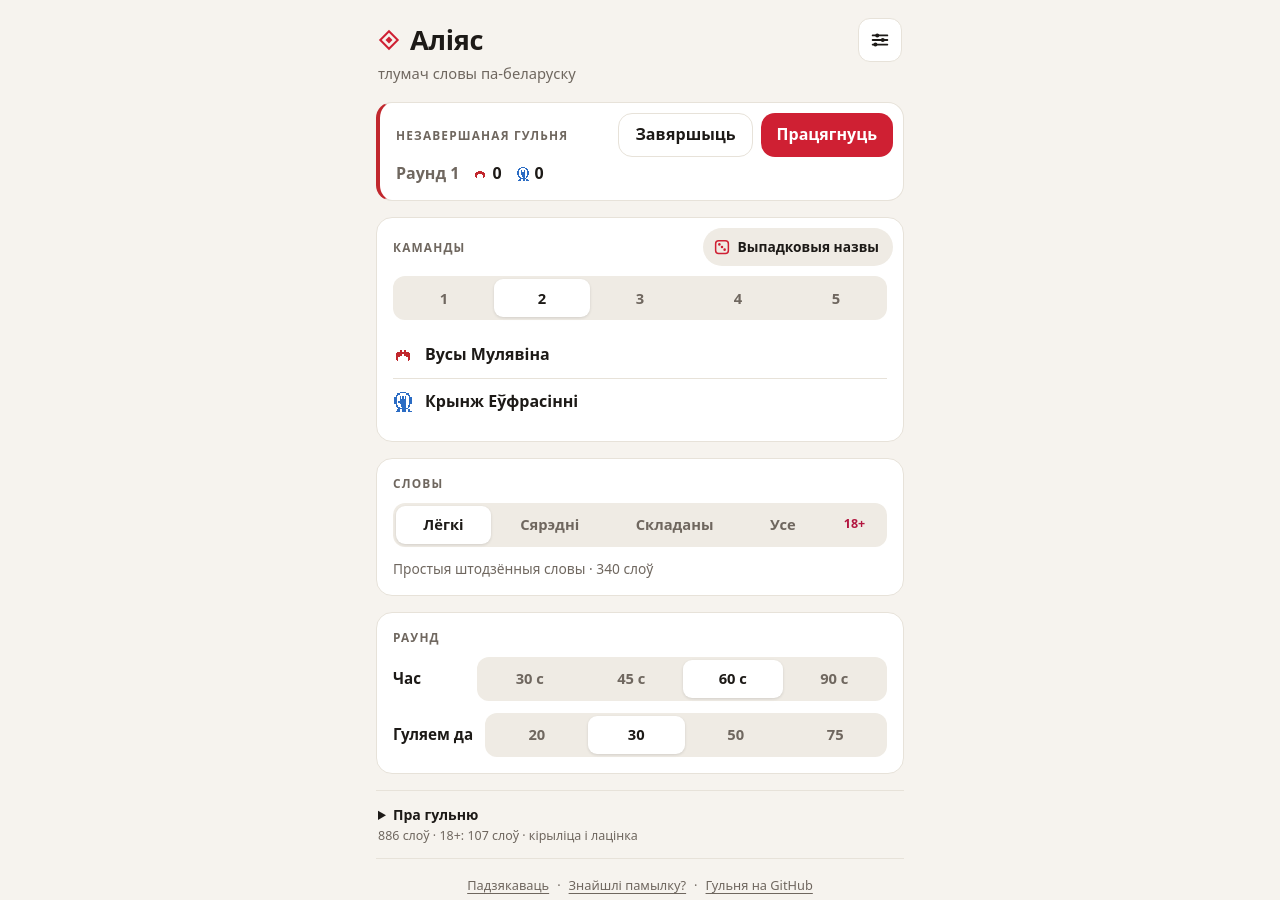
Test: SetupScreen › працяг гульні без гуку не чапае аўдыя, а новую гульню можна не пацвярджаць
Click the button "Працягнуць" at (827,135), box x1=761 y1=113 x2=893 y2=157
(page scrolled)
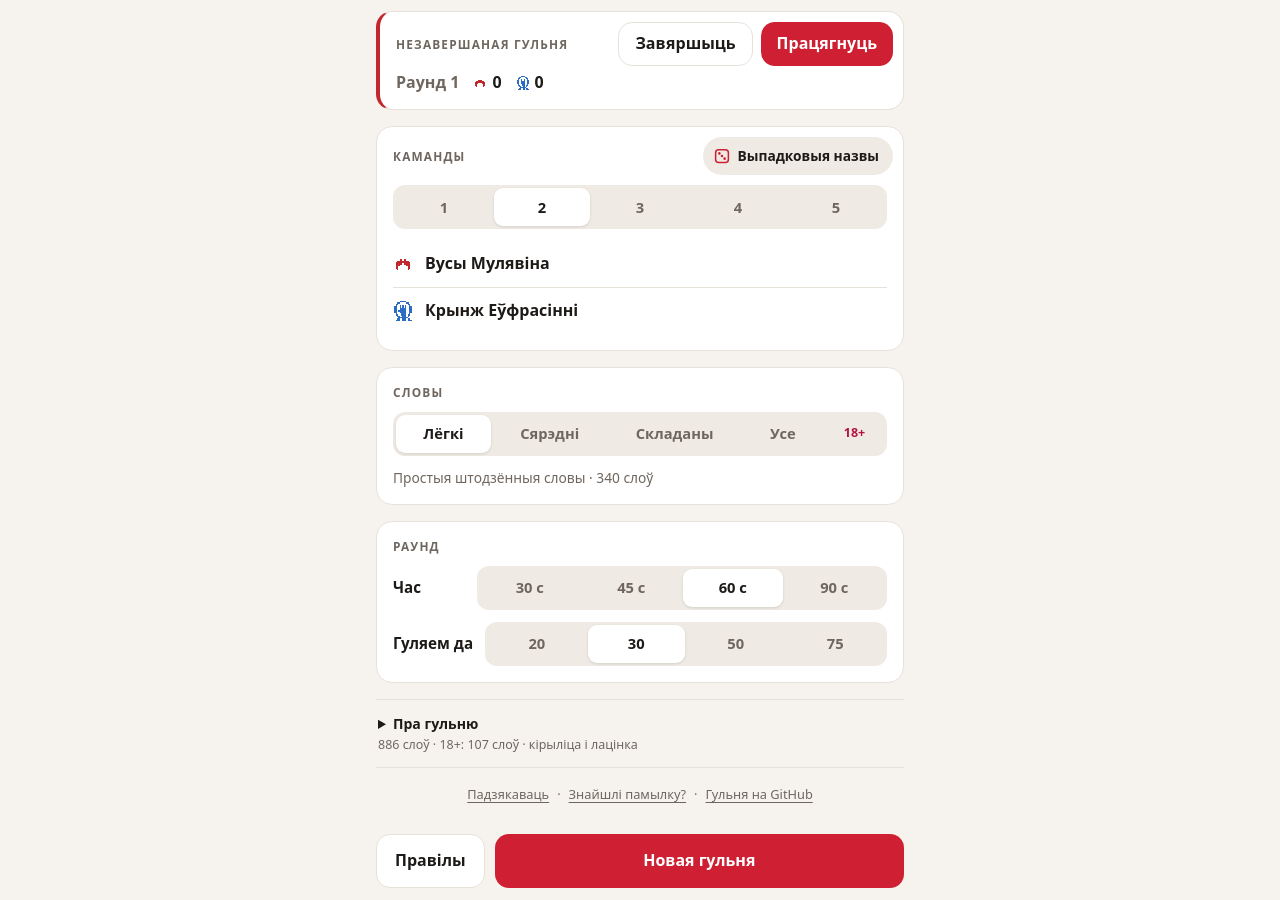
Click the button "Новая гульня" at (699,861), box x1=495 y1=834 x2=904 y2=888
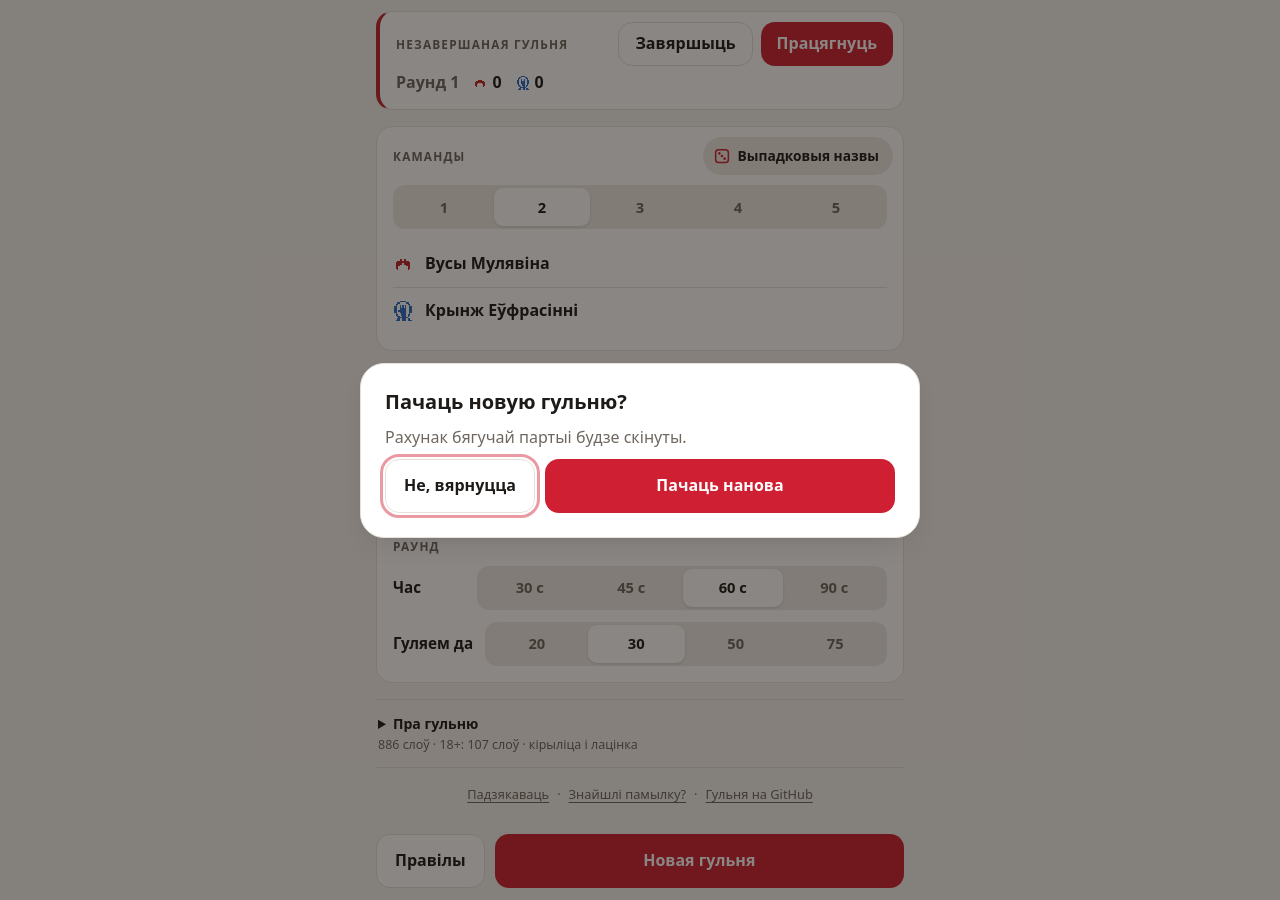
Click the button "Не, вярнуцца" at (460,486), box x1=385 y1=458 x2=535 y2=512
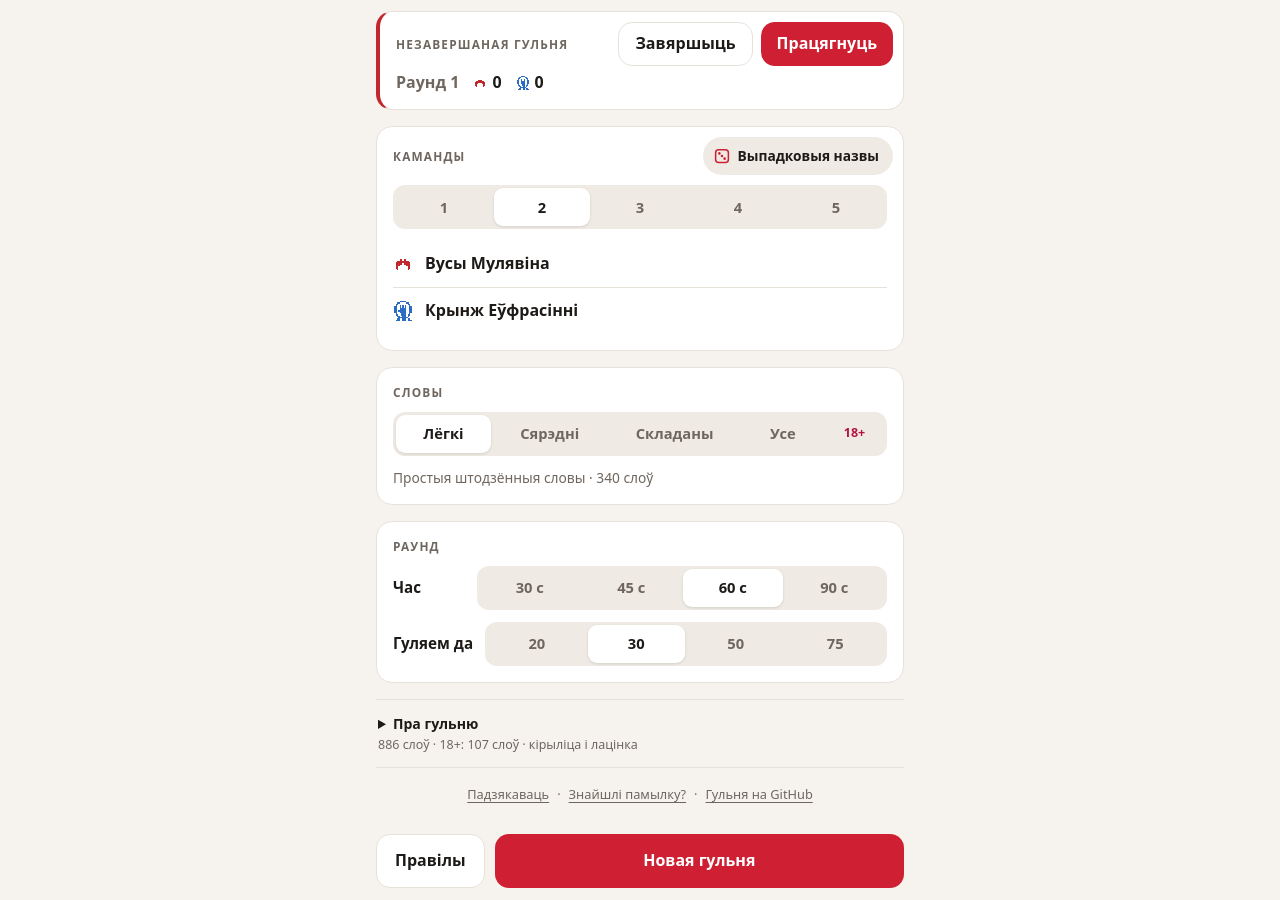
Now the dialog is gone
